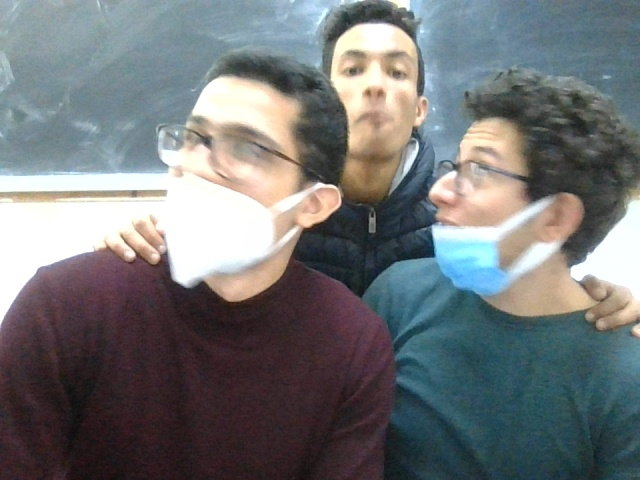mask_weared_incorrect: (432, 57, 610, 303)
without_mask: (314, 4, 428, 166)
